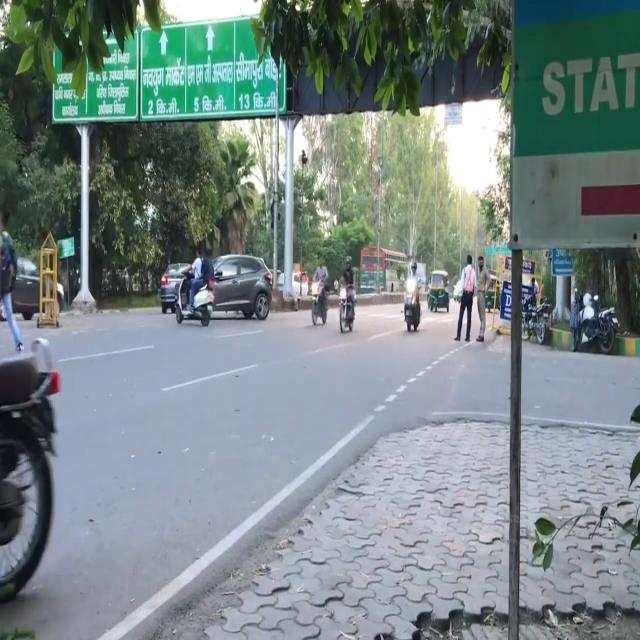Scooty: (174, 266, 213, 329), (400, 262, 424, 340)
